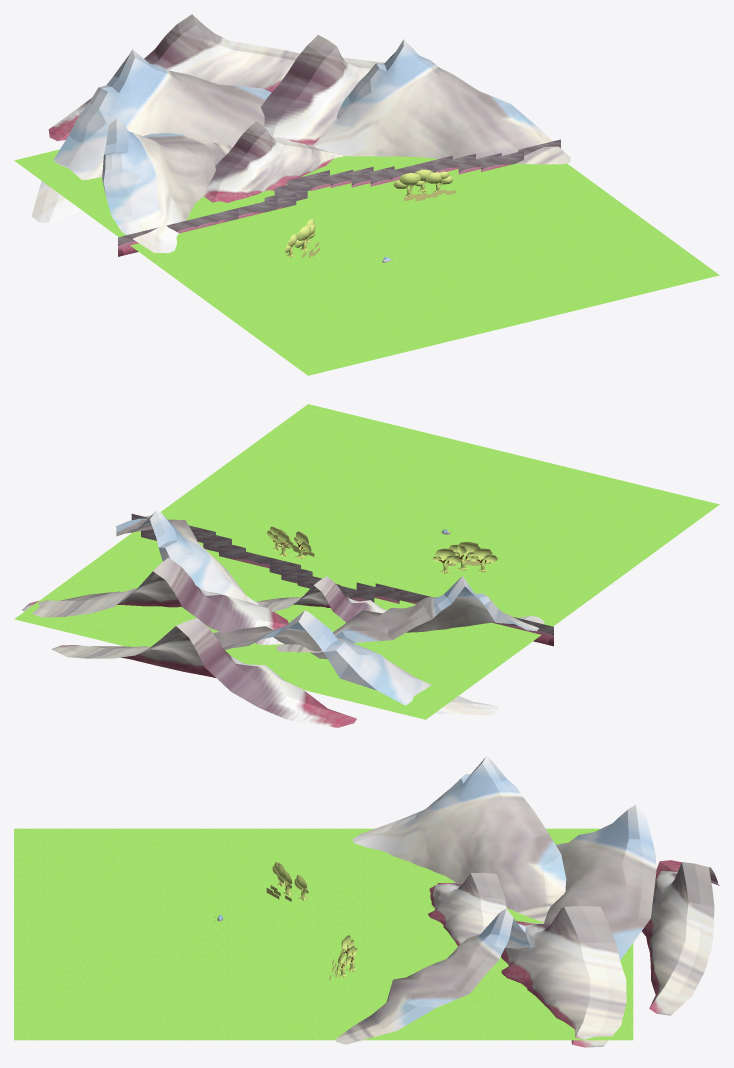
The model's file is 324_bg_grassE.fbx.
3 views of the same model, one above another, from view 1: azimuth 30°, elevation 25°; view 2: azimuth 150°, elevation 25°; view 3: azimuth 270°, elevation 25° (orthographic). The views are drawn at different scales.
Visible parts, largest first — view 1: ground, polySurface1, polySurface17, polySurface18, polySurface19, polySurface20, polySurface16; view 2: ground, polySurface20, polySurface19, polySurface17, polySurface18, polySurface1, polySurface16; view 3: ground, polySurface18, polySurface19, polySurface17, polySurface20, polySurface1, polySurface16.
Boxes of the visible parts, x1,y1,x2,y2 form: ground: (14, 149, 719, 375); polySurface1: (313, 39, 570, 164); polySurface17: (31, 49, 271, 222); polySurface18: (102, 118, 233, 253); polySurface19: (260, 35, 384, 144); polySurface20: (48, 14, 300, 141); polySurface16: (203, 121, 343, 202); ground: (14, 404, 719, 719); polySurface20: (51, 618, 356, 727); polySurface19: (22, 557, 288, 644); polySurface17: (213, 610, 499, 714); polySurface18: (276, 576, 544, 652); polySurface1: (116, 510, 258, 604); polySurface16: (255, 576, 386, 622); ground: (14, 828, 633, 1040); polySurface18: (352, 756, 566, 922); polySurface19: (501, 906, 626, 1047); polySurface17: (544, 805, 656, 960); polySurface20: (642, 860, 719, 1015); polySurface1: (336, 908, 535, 1044); polySurface16: (428, 873, 506, 945).
Bounding box in the file's own units: 5571 × 1254 × 7272.
